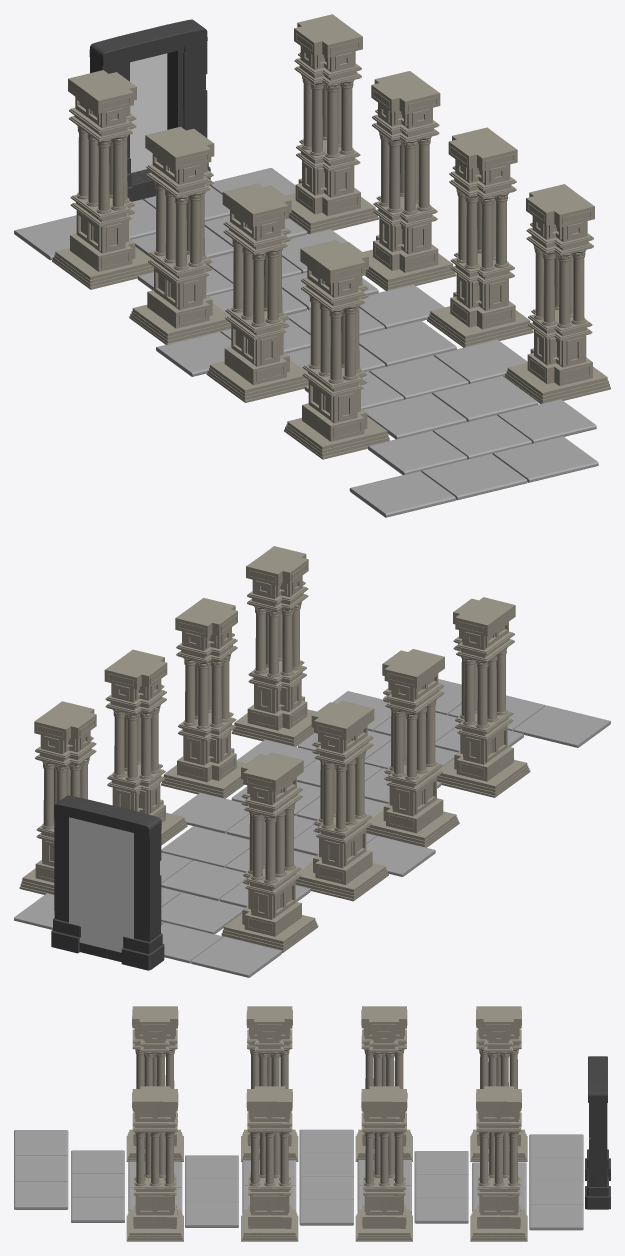
The model's file is Gate.fbx.
3 views of the same model, one above another, from view 1: azimuth 30°, elevation 25°; view 2: azimuth 150°, elevation 25°; view 3: azimuth 270°, elevation 25° (orthographic). The views are drawn at different scales.
Parts seen in each view (by area): view 1: Pillars, Floor, Gate, Gate_Backdrop; view 2: Pillars, Floor, Gate, Gate_Backdrop; view 3: Pillars, Floor, Gate.
Part boxes in pixels (x1,y1,x2,y2): Pillars: [52, 14, 610, 459]; Floor: [14, 168, 598, 517]; Gate: [89, 19, 210, 201]; Gate_Backdrop: [130, 53, 167, 172]; Pillars: [19, 546, 530, 952]; Floor: [14, 679, 610, 977]; Gate: [51, 795, 164, 970]; Gate_Backdrop: [69, 817, 133, 952]; Pillars: [126, 1006, 527, 1241]; Floor: [14, 1129, 583, 1230]; Gate: [585, 1056, 610, 1209].
Bounding box in the file's own units: 548 × 318 × 1267.
